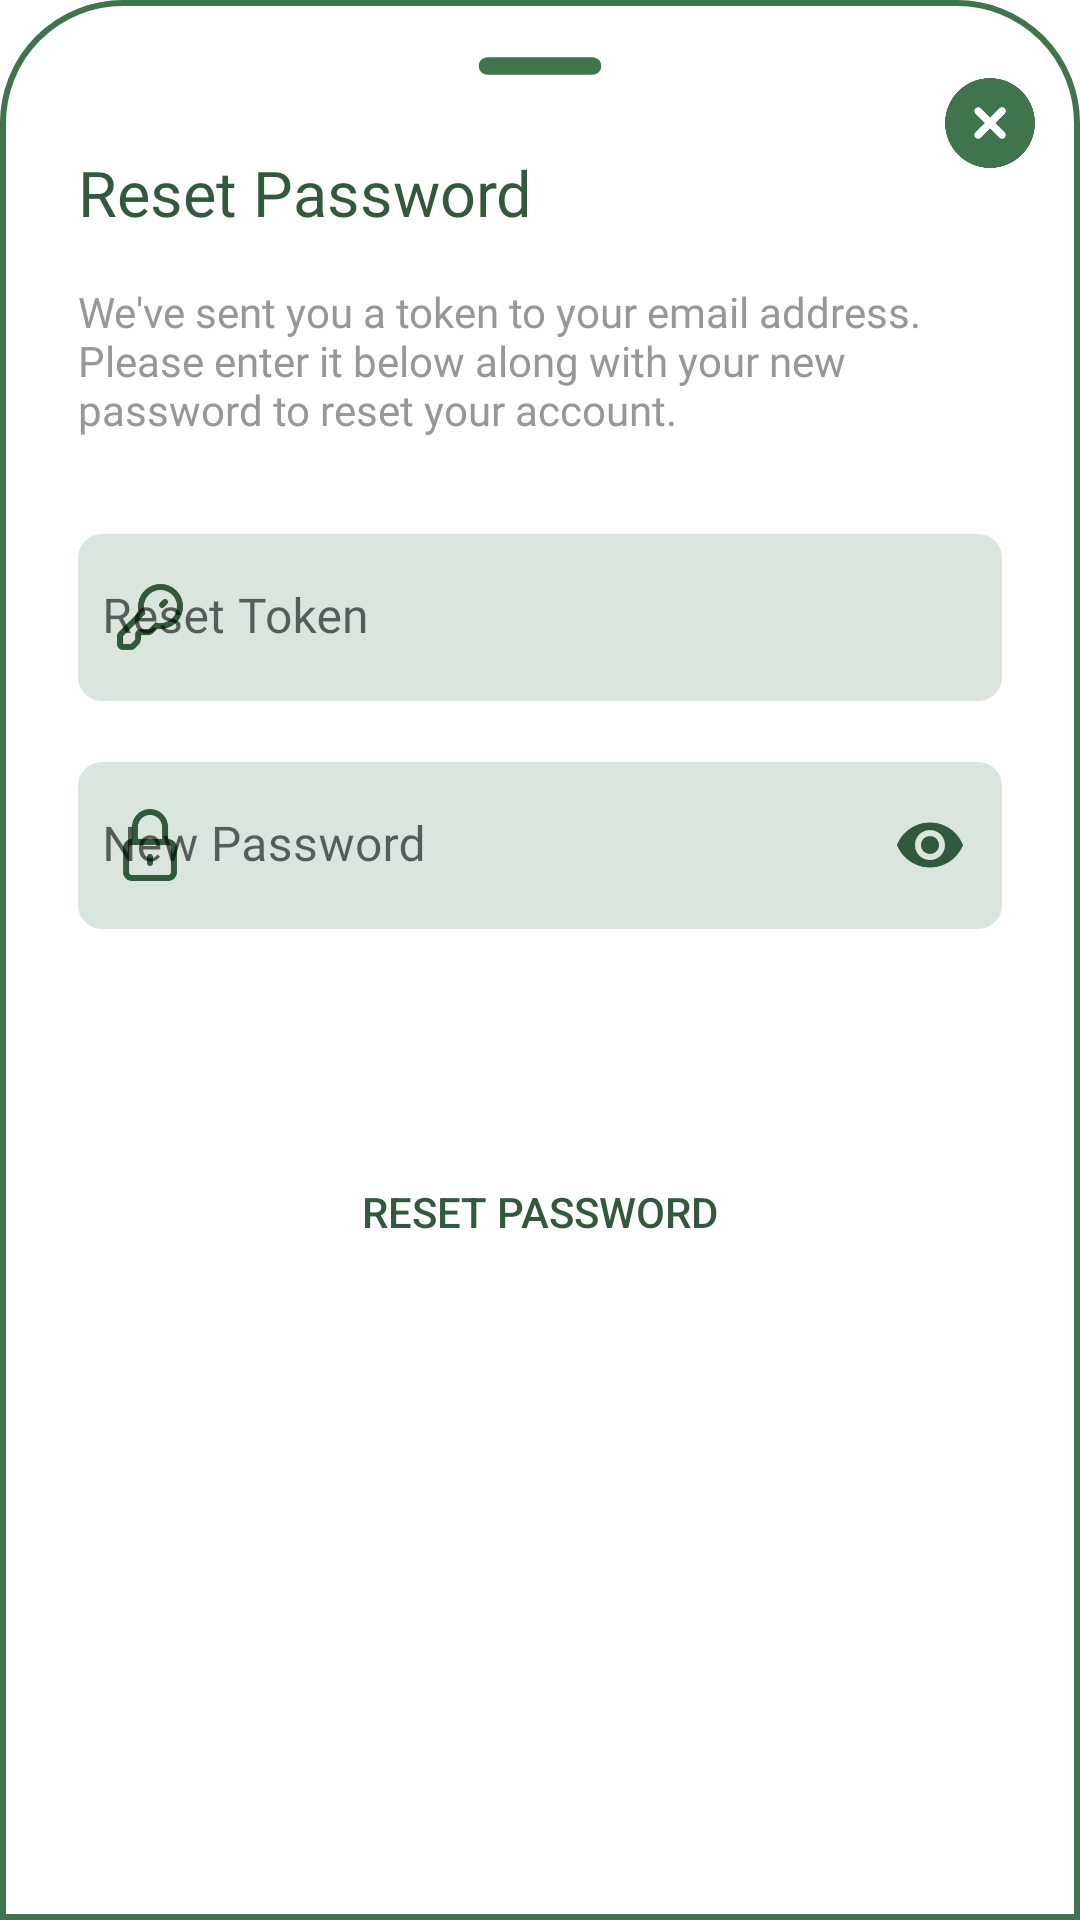

Named icons in this screenshot (1080 × 1920) and their centers, [x,y]:
close: [990,123]
